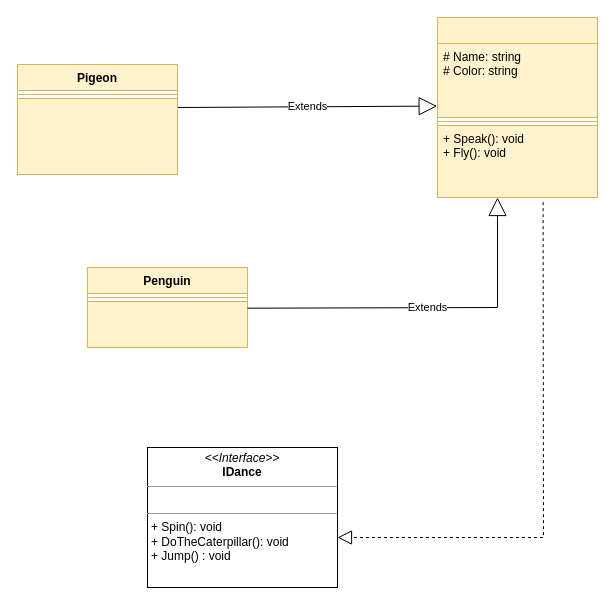
The diagram is 615 pixels wide and 605 high, and some of its shapes have lost their labels. The shapes that lost their labels are listed below. From the top down, each one's box as (x1, y1, x2, y2) in pixels, then its label:
(436, 16, 598, 198): Bird
(16, 98, 178, 174): + Speak(): void + EatPizza(): void
(86, 300, 248, 348): + Speak() : void + Fly(): void
